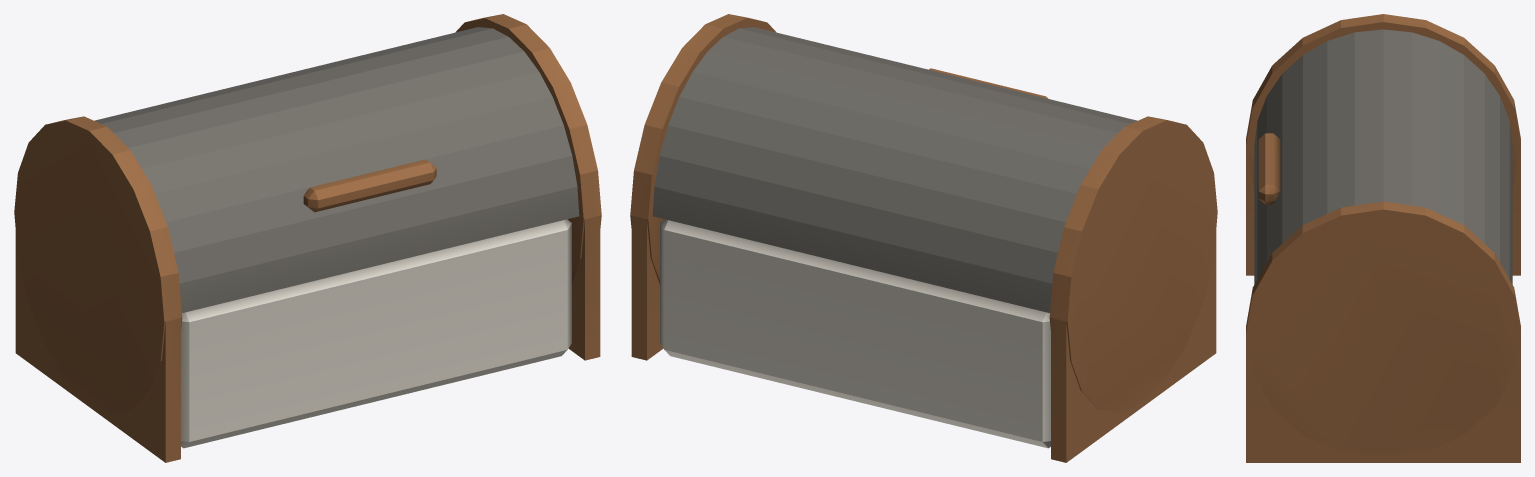
File: breadBin.glb
3 renders of one model, left to right at view 1: azimuth 30°, elevation 25°; view 2: azimuth 150°, elevation 25°; view 3: azimuth 270°, elevation 25°, orthographic. The views are drawn at different scales.
Visible parts, largest first — view 1: bread_bin, roll_top; view 2: bread_bin, roll_top; view 3: bread_bin, roll_top.
Boxes of the visible parts, x1=… form: bread_bin: x1=14, y1=14, x2=601, y2=462; roll_top: x1=94, y1=27, x2=579, y2=312; bread_bin: x1=630, y1=14, x2=1217, y2=462; roll_top: x1=652, y1=27, x2=1137, y2=312; bread_bin: x1=1246, y1=14, x2=1520, y2=462; roll_top: x1=1254, y1=29, x2=1512, y2=284.
Size of the model in its own units: 0.34 by 0.206 by 0.202.
